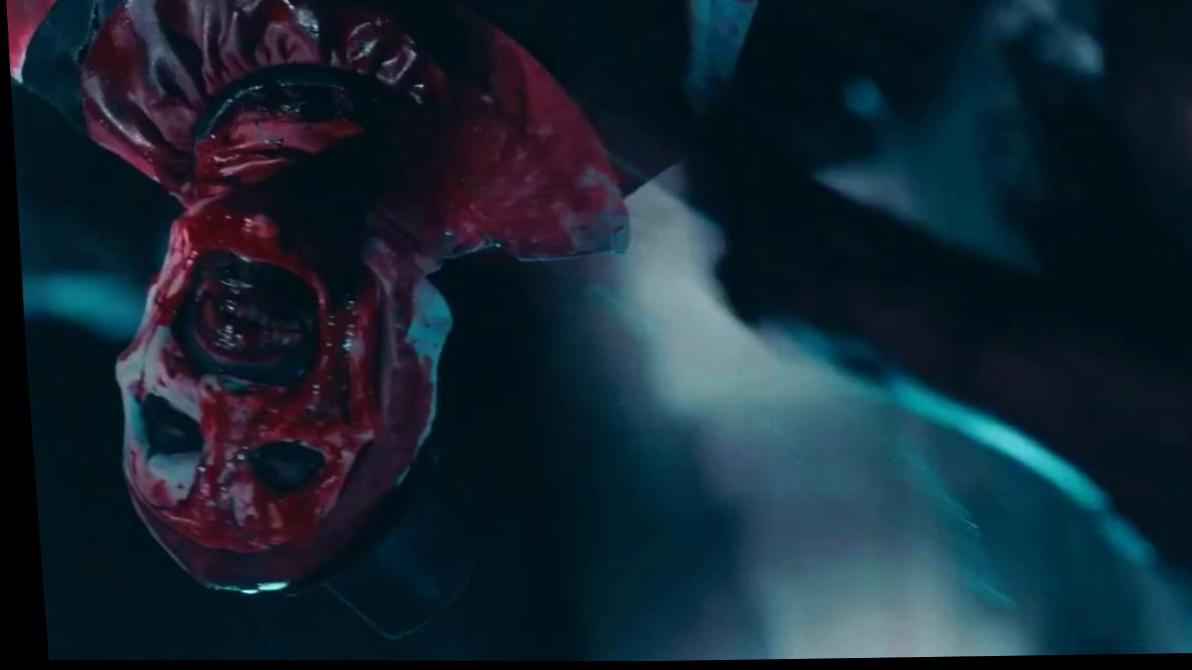Fire: (76, 0, 624, 592), (684, 0, 761, 115), (6, 0, 56, 82)
